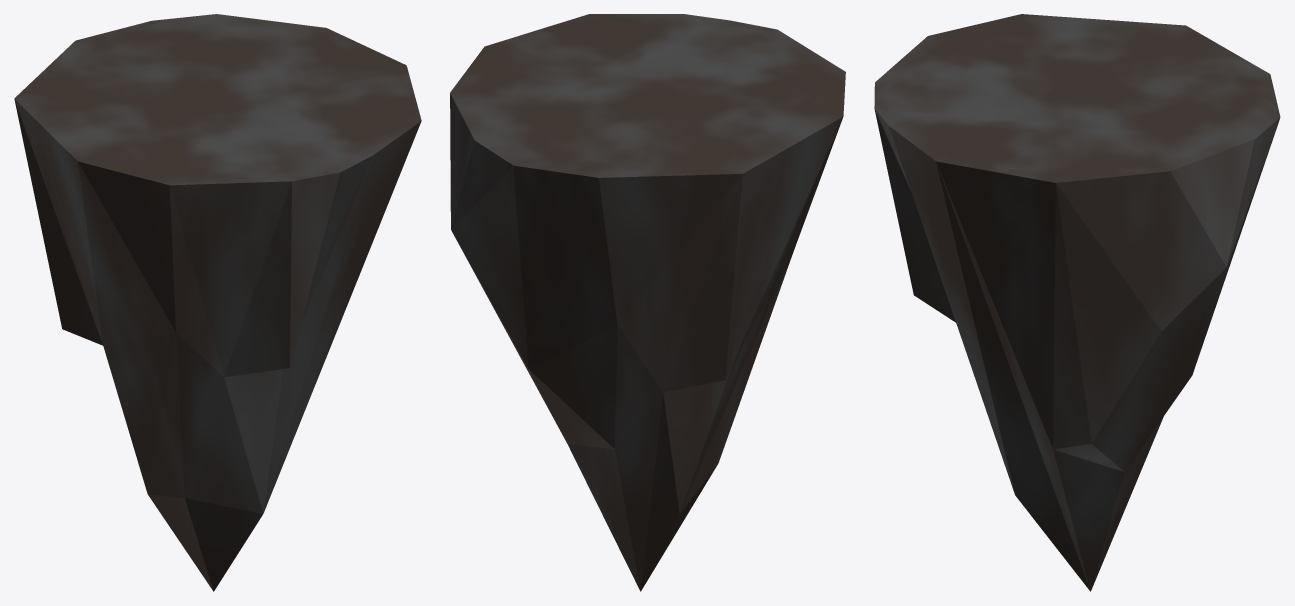
Rendered from sarkıt.fbx.
3 views of the same model, side by side, from view 1: azimuth 30°, elevation 25°; view 2: azimuth 150°, elevation 25°; view 3: azimuth 270°, elevation 25° (orthographic).
Parts seen in each view (by area): view 1: Sarkıt; view 2: Sarkıt; view 3: Sarkıt.
Boxes of the visible parts, x1,y1,x2,y2 form: Sarkıt: (14, 14, 421, 591); Sarkıt: (450, 14, 845, 591); Sarkıt: (874, 14, 1280, 591).
Size of the model in its own units: 198 by 272 by 202.
Materials: 1 (1 with a texture image).
